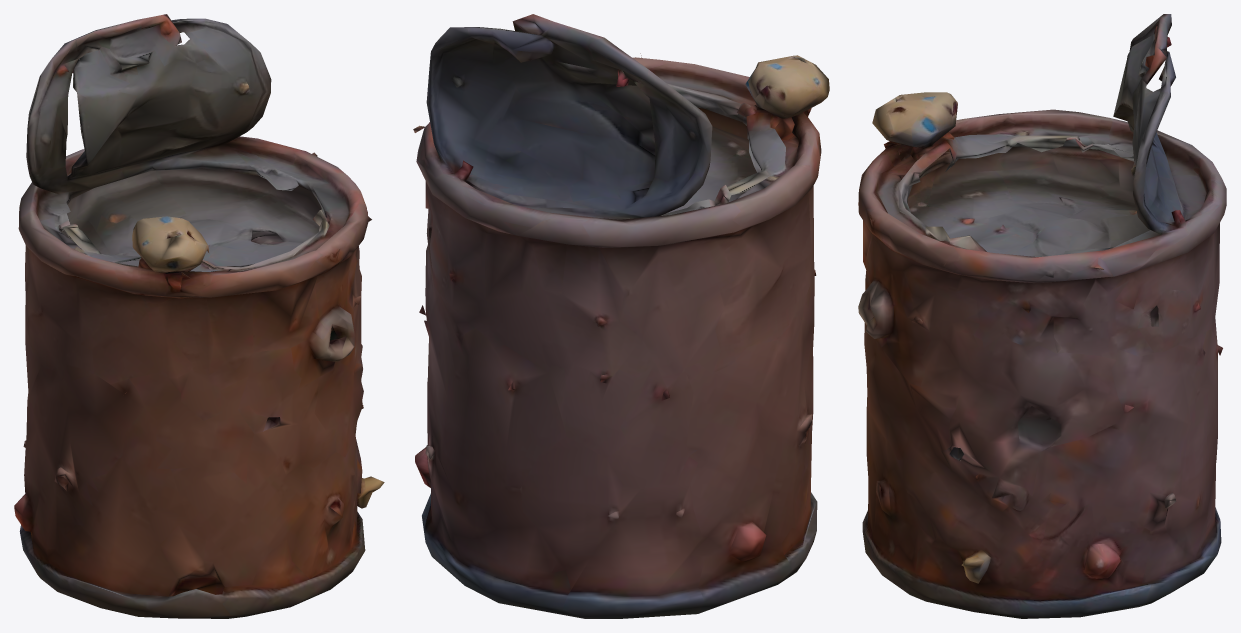
File: junk-can.glb
3 views of the same model, side by side, from view 1: azimuth 30°, elevation 25°; view 2: azimuth 150°, elevation 25°; view 3: azimuth 270°, elevation 25° (orthographic). The views are drawn at different scales.
Visible parts, largest first — view 1: tripo_node_7f191b89-64e6-4f8f-a2b9-6ae29c831ed0; view 2: tripo_node_7f191b89-64e6-4f8f-a2b9-6ae29c831ed0; view 3: tripo_node_7f191b89-64e6-4f8f-a2b9-6ae29c831ed0.
Part boxes in pixels (box(x1,y1,x2,y2)): tripo_node_7f191b89-64e6-4f8f-a2b9-6ae29c831ed0: box(14, 14, 384, 618); tripo_node_7f191b89-64e6-4f8f-a2b9-6ae29c831ed0: box(413, 14, 829, 618); tripo_node_7f191b89-64e6-4f8f-a2b9-6ae29c831ed0: box(858, 14, 1226, 618).
Bounding box in the file's own units: 0.6543 × 1 × 0.6506.
1 material, 1 textured.
